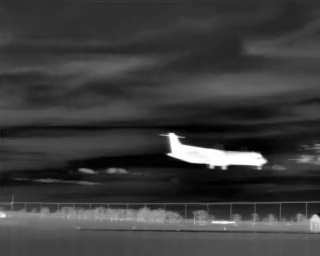AIRPLANE: (71, 160, 142, 190)
